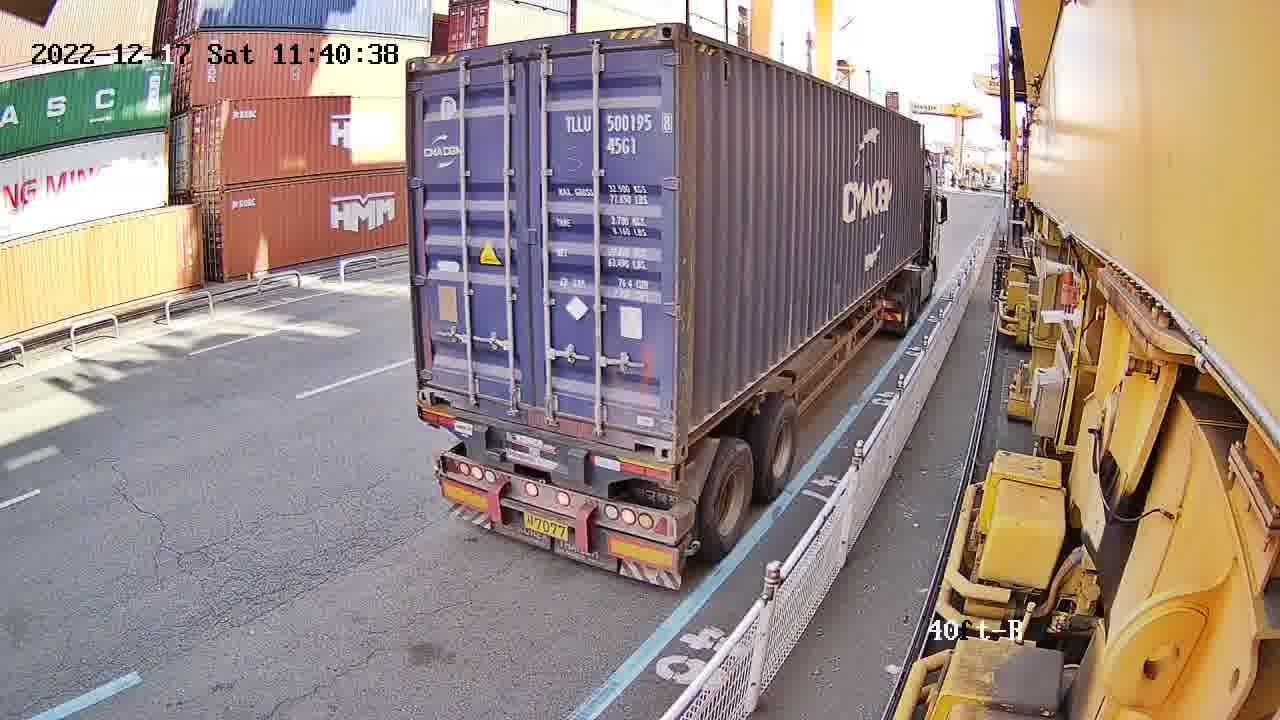Chassis: (417, 410, 672, 483)
Cone: (672, 460, 687, 484)
Hole_L: (676, 399, 704, 462), (414, 371, 451, 412)
Hole_R: (629, 411, 675, 463)
Tire: (702, 445, 753, 547), (758, 406, 799, 492)
